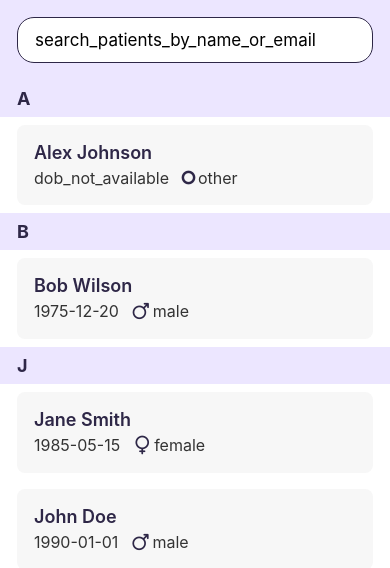
Patients › Search Functionality › should filter patients by email
The image size is (390, 568).
Type "jane.smith" into the field with placeholder "search_patients_by_name_or_email" at x=195, y=40, box [17,17,373,63]
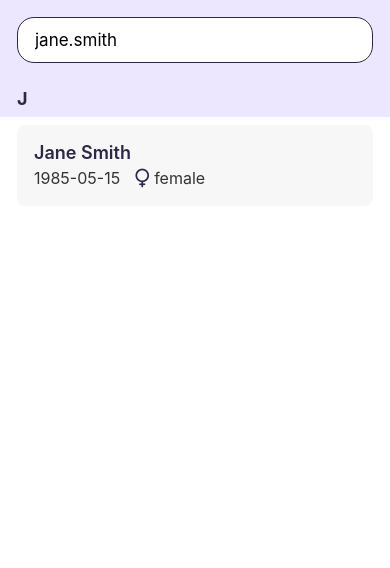
Expected: the text "John Doe" is gone
Expected: the text "Alex Johnson" is gone
Expected: the text "Bob Wilson" is gone
